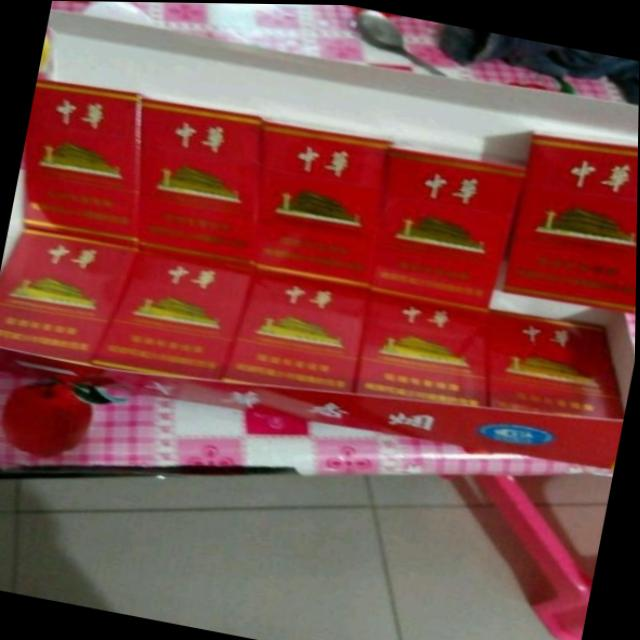box: (370, 144, 527, 309), (504, 130, 638, 312), (257, 121, 391, 286), (91, 247, 257, 378), (140, 96, 263, 262), (24, 78, 144, 242), (0, 225, 141, 363), (221, 263, 371, 392), (360, 285, 491, 404), (488, 308, 623, 416)
